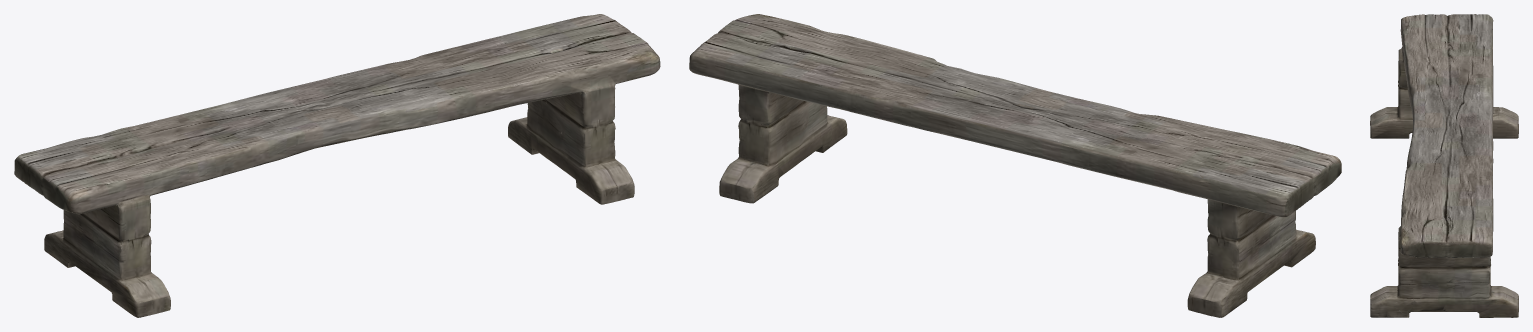
Rendered from balance-plank.glb.
3 views of the same model, side by side, from view 1: azimuth 30°, elevation 25°; view 2: azimuth 150°, elevation 25°; view 3: azimuth 270°, elevation 25° (orthographic). The views are drawn at different scales.
Parts seen in each view (by area): view 1: Mesh_0; view 2: Mesh_0; view 3: Mesh_0.
Part boxes in pixels (x1,y1,x2,y2): Mesh_0: [14, 14, 660, 317]; Mesh_0: [689, 14, 1341, 317]; Mesh_0: [1370, 14, 1518, 317].
Bounding box in the file's own units: 1.9 × 0.3671 × 0.5235.
1 material, 1 textured.
